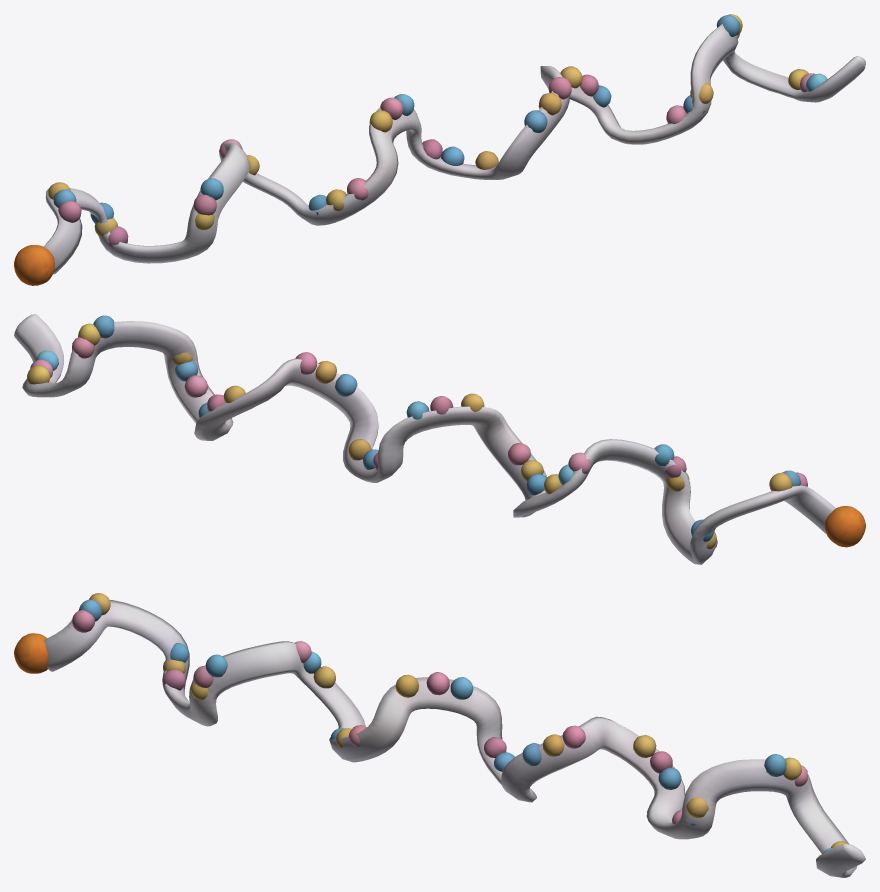
Rendered from mrna-strand.glb.
The picture shows the model from 3 angles, top to bottom: view 1: azimuth 30°, elevation 25°; view 2: azimuth 150°, elevation 25°; view 3: azimuth 330°, elevation 25°; orthographic projection.
Parts seen in each view (by area): view 1: mrna-strand-strand, mrna-strand-codons, mrna-strand-cap; view 2: mrna-strand-strand, mrna-strand-codons, mrna-strand-cap; view 3: mrna-strand-strand, mrna-strand-codons, mrna-strand-cap.
Part boxes in pixels (x1,y1,x2,y2): mrna-strand-strand: (43,24,865,274); mrna-strand-codons: (48,14,827,247); mrna-strand-cap: (14,245,54,285); mrna-strand-strand: (14,314,835,564); mrna-strand-codons: (27,315,807,549); mrna-strand-cap: (825,506,865,547); mrna-strand-strand: (44,600,865,877); mrna-strand-codons: (72,593,848,853); mrna-strand-cap: (14,633,48,673).
Size of what is drawn, in the model's own units: 1.05 by 0.1218 by 0.1234.
